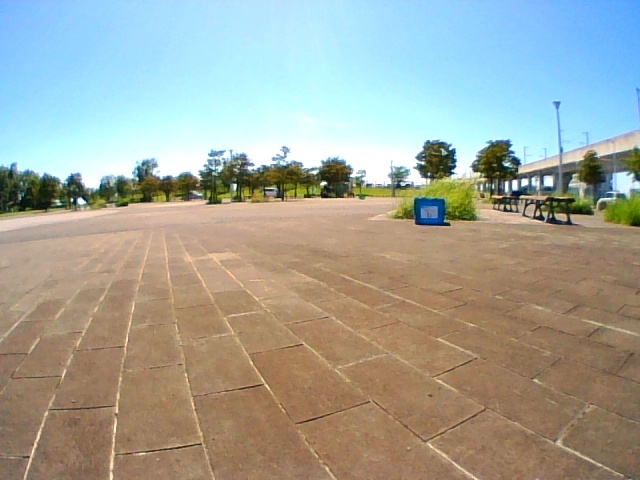blue_box: (415, 199, 443, 225)
tag: (421, 206, 436, 218)
